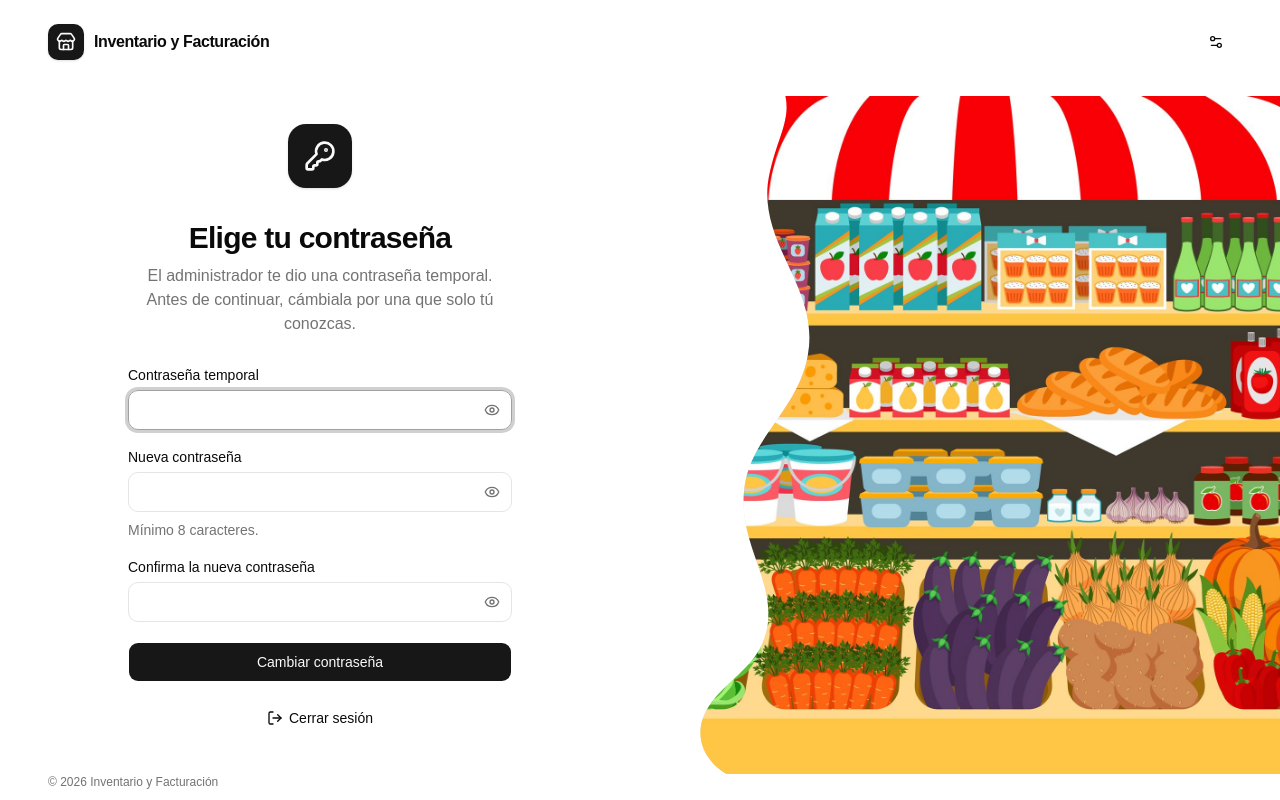
it: ChangePasswordPage › asks a user with a temporary password for a different one
The image size is (1280, 800).
Expected: the heading "Elige tu contraseña" is shown, [189, 221, 451, 254]
In the password field labelled "Contraseña temporal": (320, 410) [128, 390, 512, 430], type "temporary-pass-1"
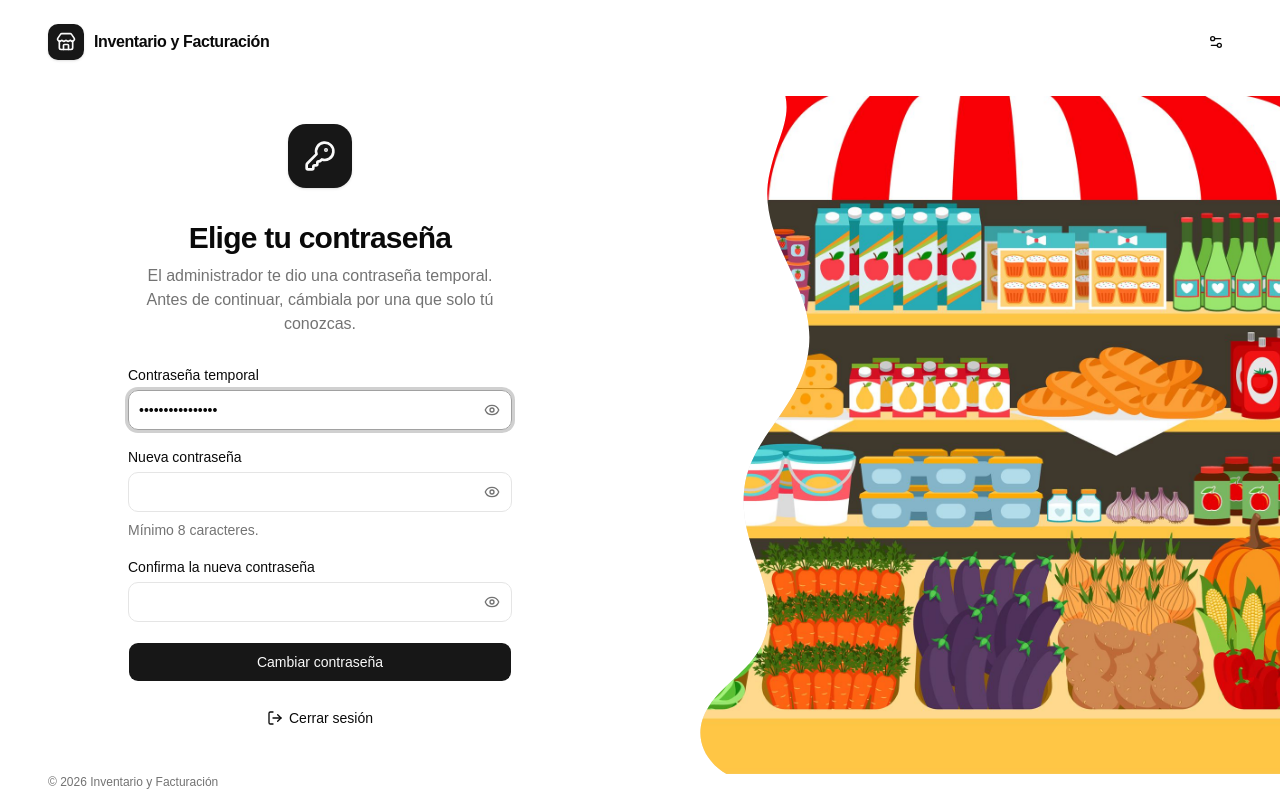
In the password field labelled "Nueva contraseña": (320, 492) [128, 472, 512, 512], type "temporary-pass-1"
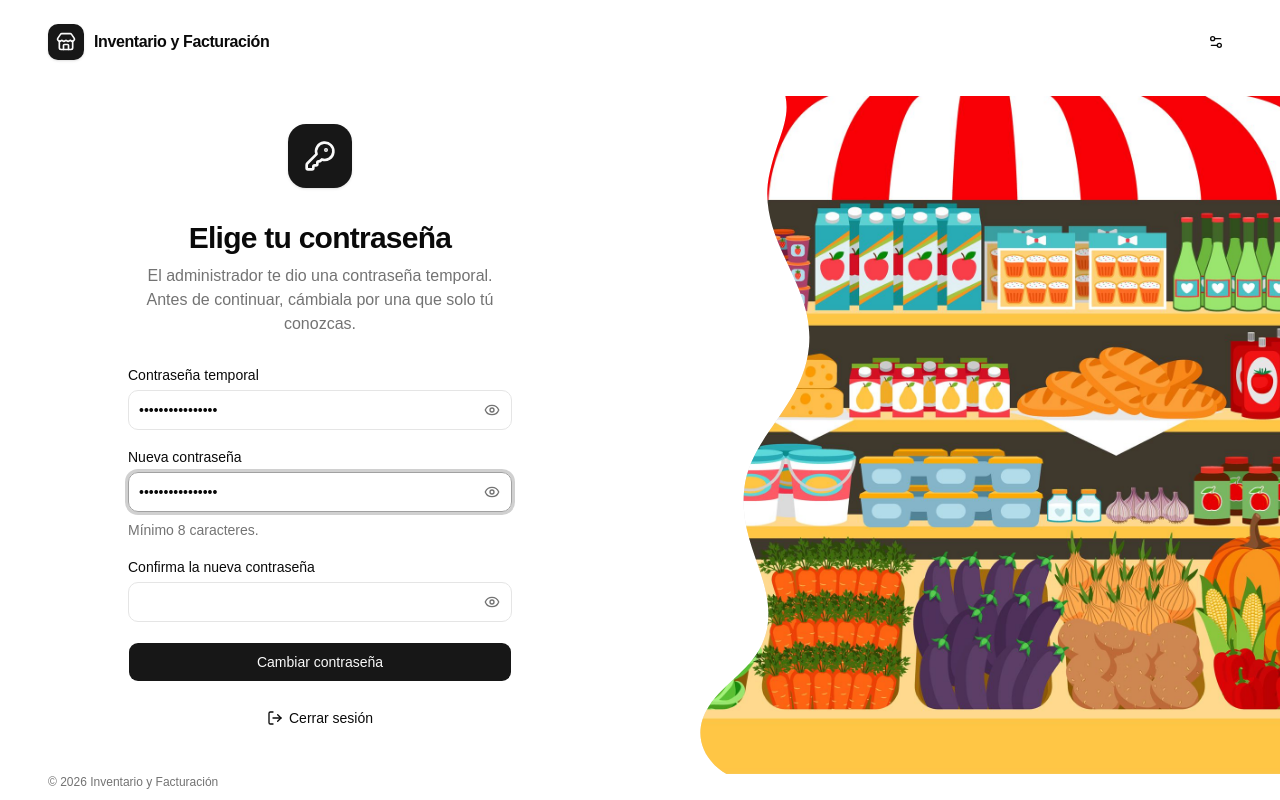
In the password field labelled "Confirma la nueva contraseña": (320, 602) [128, 582, 512, 622], type "temporary-pass-1"
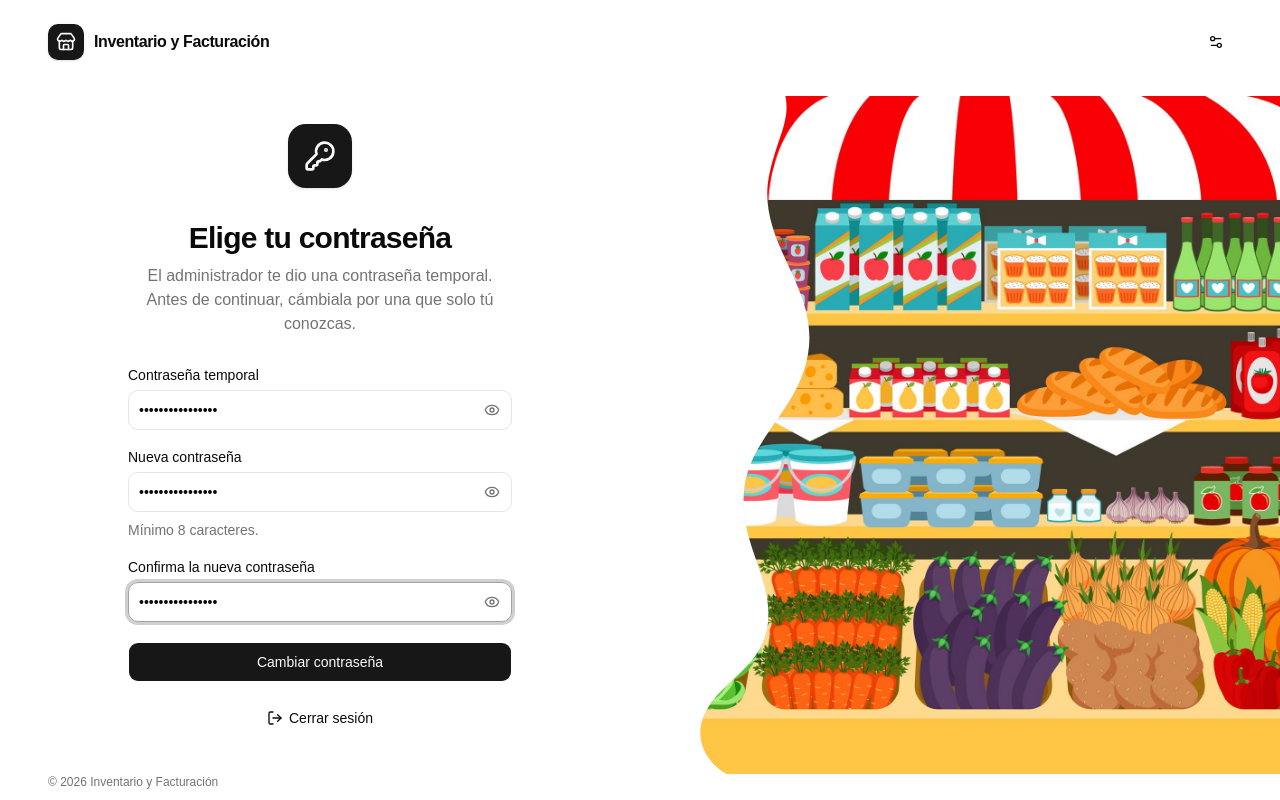
Click the button "Cambiar contraseña": (320, 662) [128, 642, 512, 682]
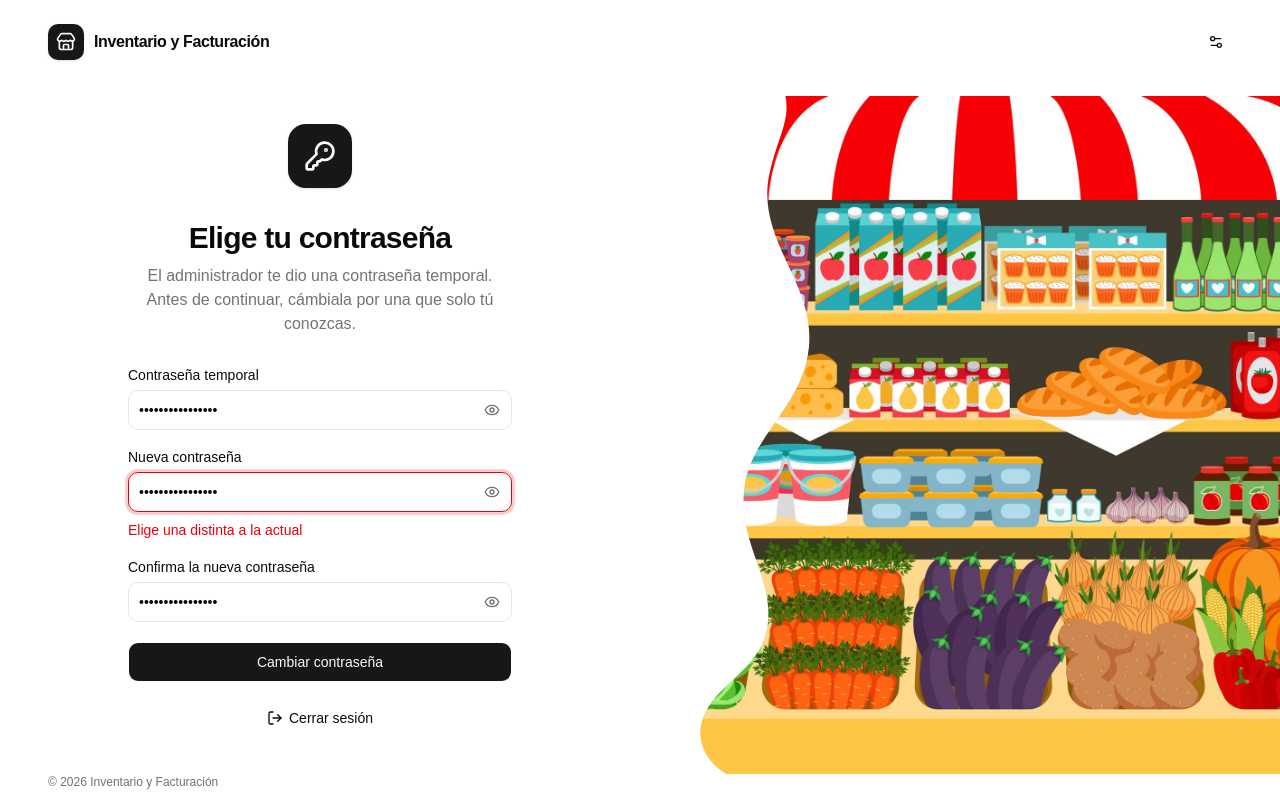
Expected: the text "Elige una distinta a la actual" is shown, [128, 522, 302, 538]
